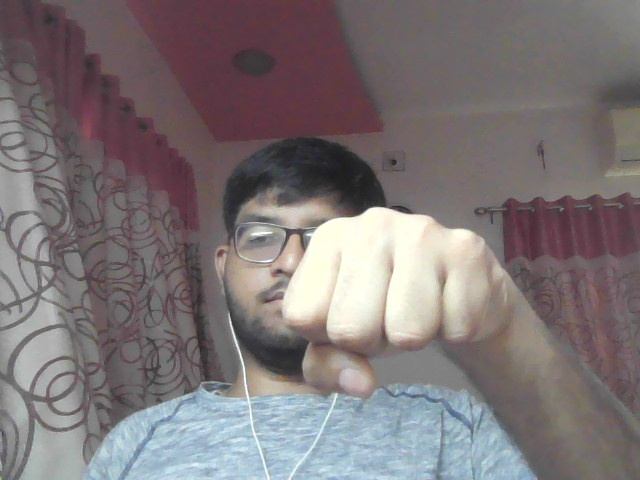હા: (284, 204, 520, 409)
